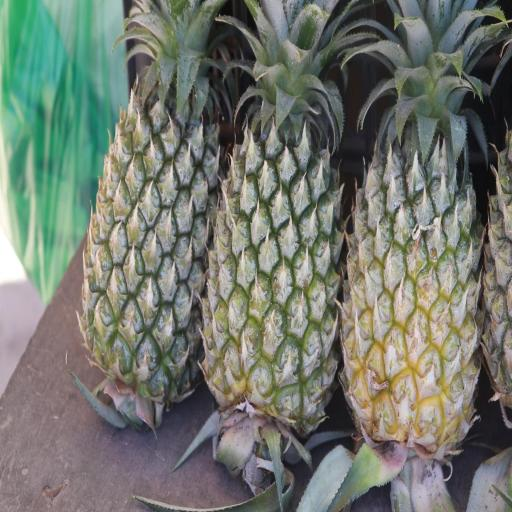------------------------------: (336, 0, 485, 461)
